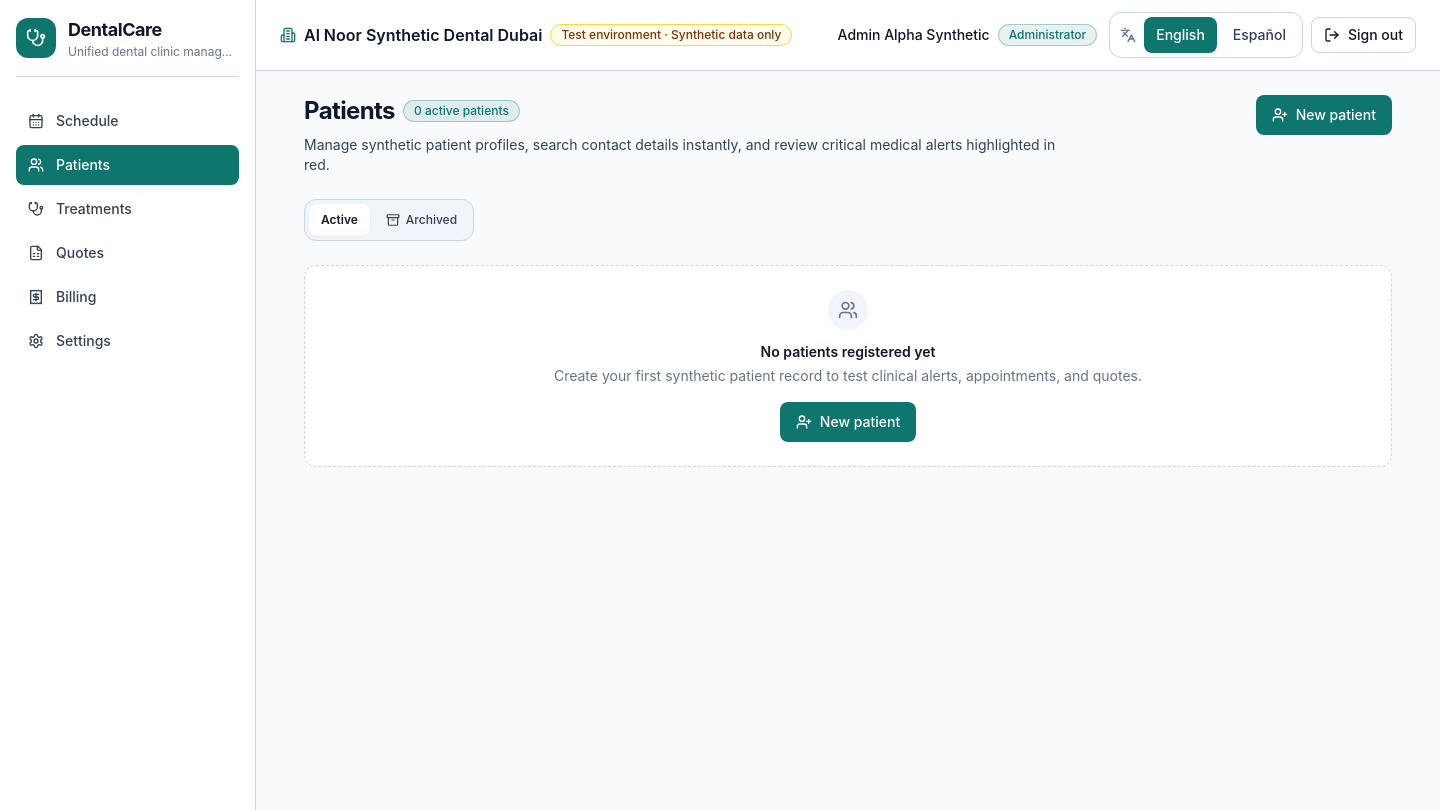
Test: T-05 Patients UI & clinical alert flow › 6. Allows admin to inspect Archived tab and restore a patient with explicit confirmation (without window.confirm), while hiding Archived tab from dentist (T-06b
Check: the text "No patients registered yet" is shown, box [761, 343, 935, 360]
Click the tab "Archived" at coordinates (421, 220), box [374, 204, 469, 236]
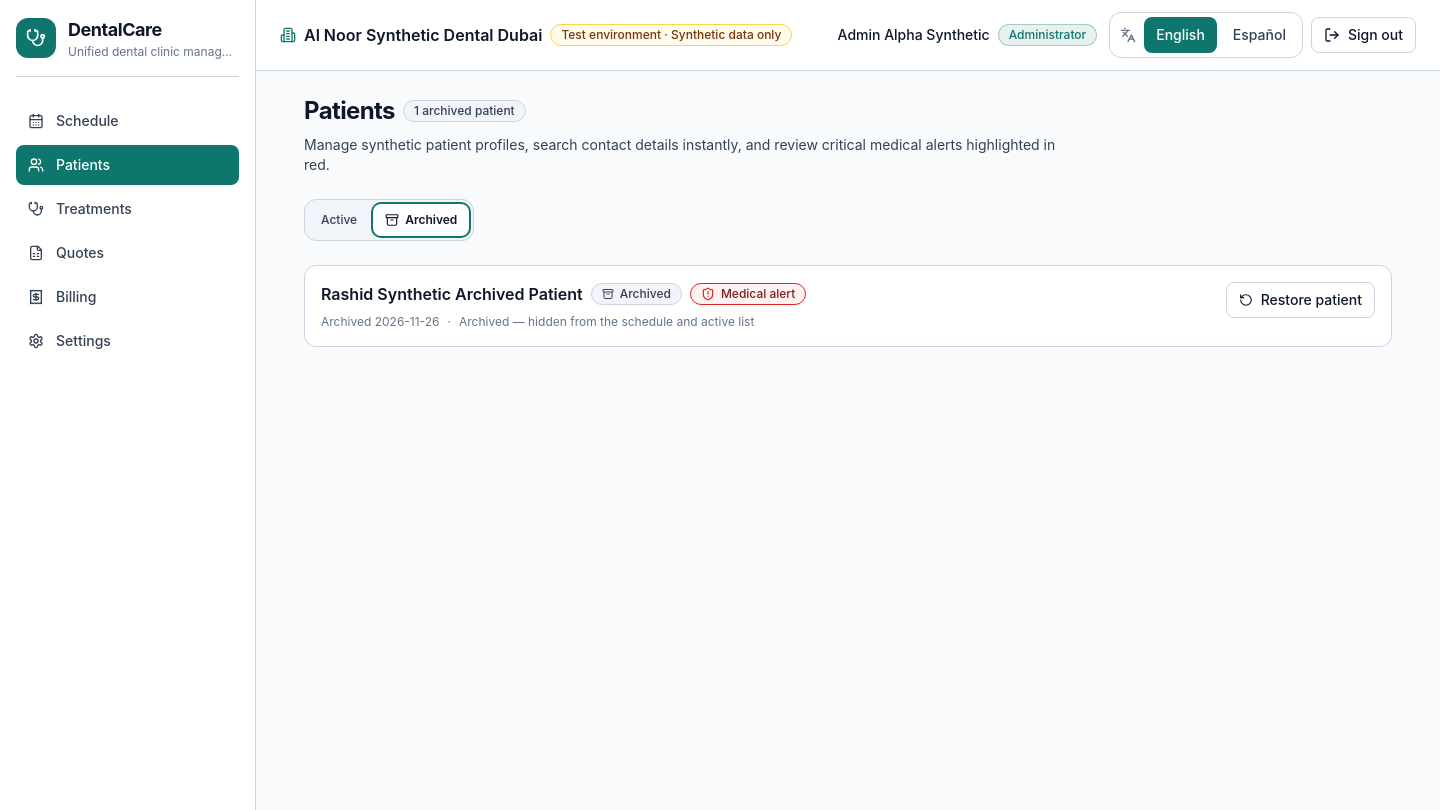
Check: the text "Rashid Synthetic Archived Patient" is shown, box [321, 282, 583, 306]
Check: the text "Archived — hidden from the schedule and active list" is shown, box [459, 314, 754, 330]
Check: the text "Medical alert" is shown, box [721, 286, 795, 302]
Clicking Restore opens inline confirmation without calling repository yet
Click the button "Restore patient" at coordinates (1300, 300), box [1226, 282, 1375, 318]
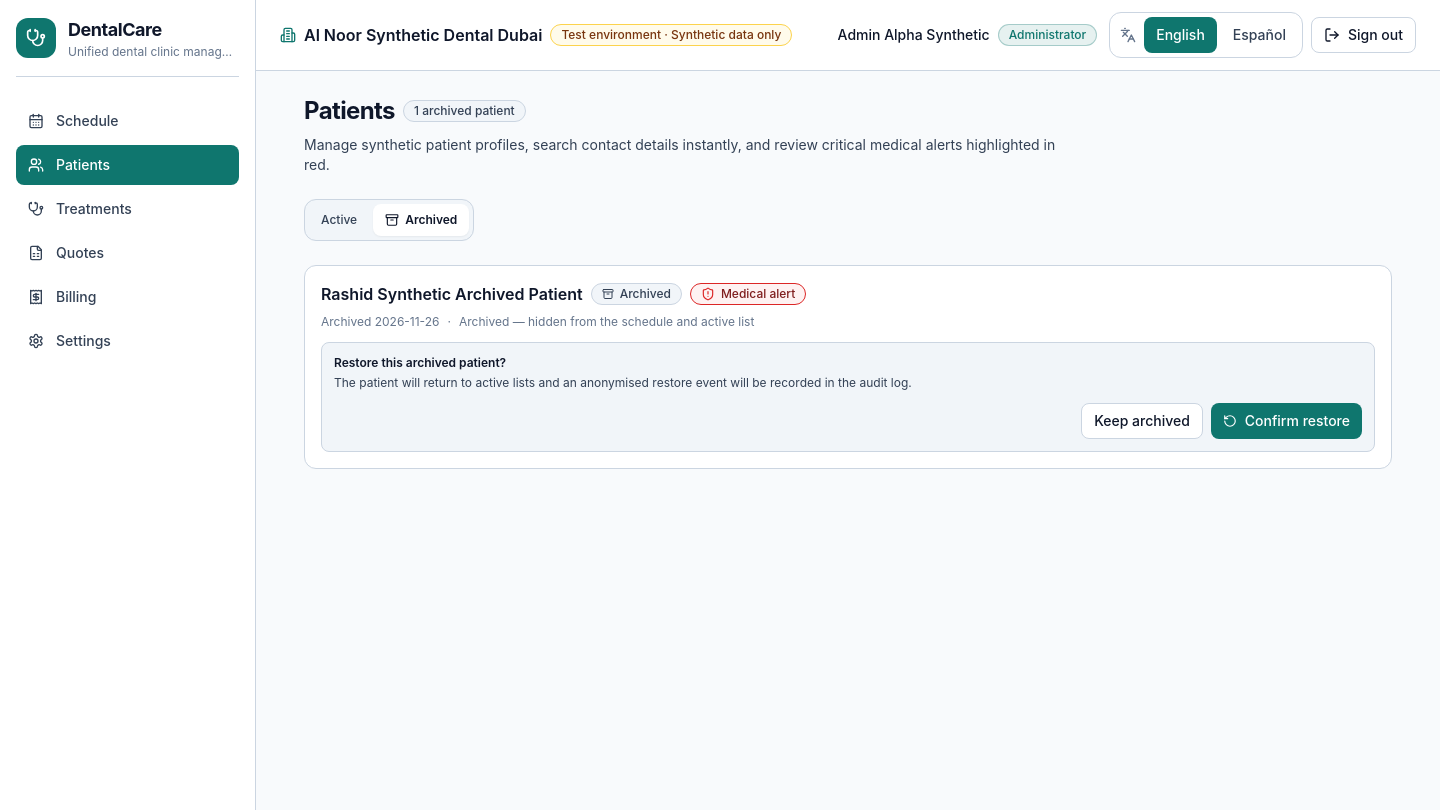
Click the button "Confirm restore" at coordinates (1286, 421), box [1211, 403, 1362, 439]
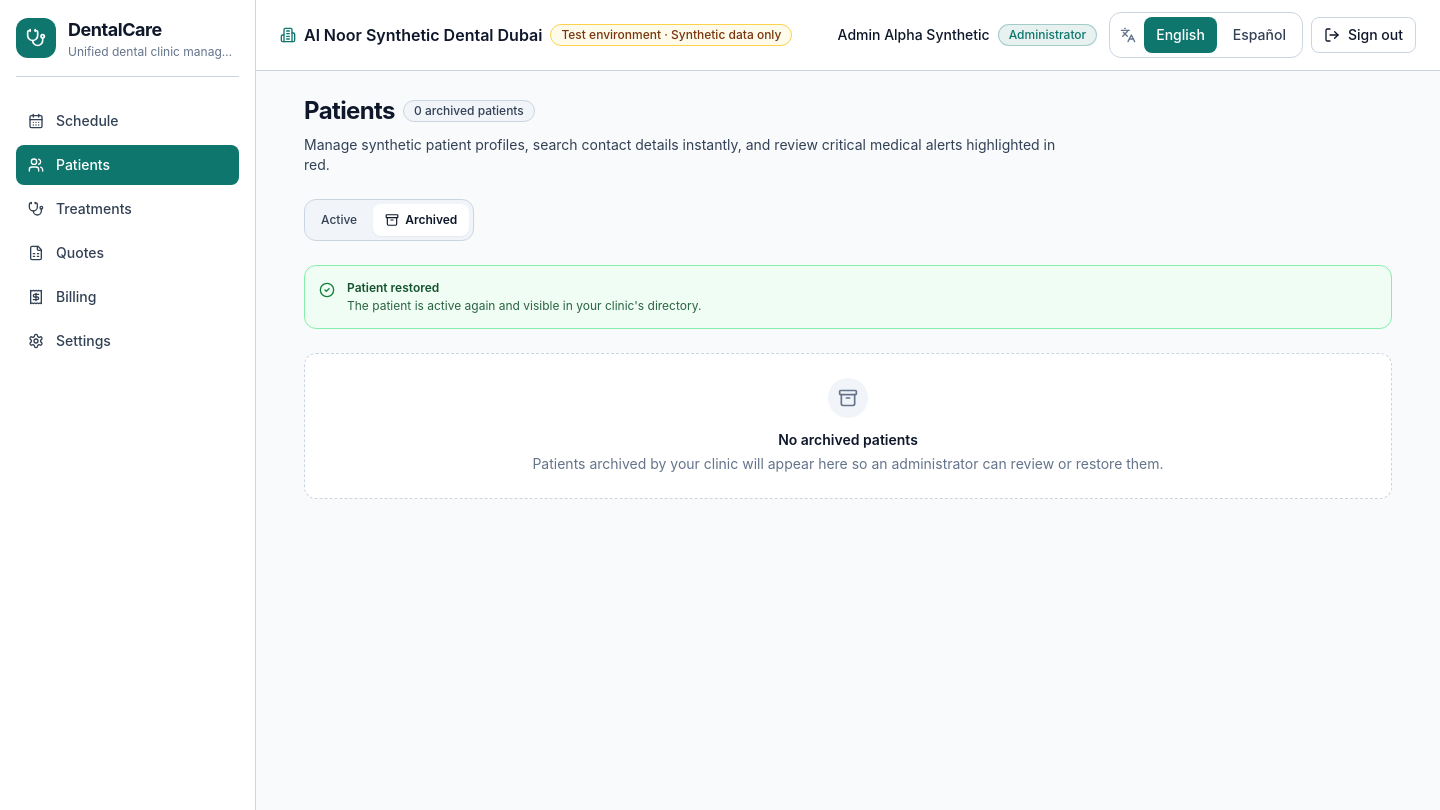
Check: the message shows "Patient restored", box [347, 280, 439, 295]
Click the tab "Active" at coordinates (339, 220), box [309, 204, 369, 236]
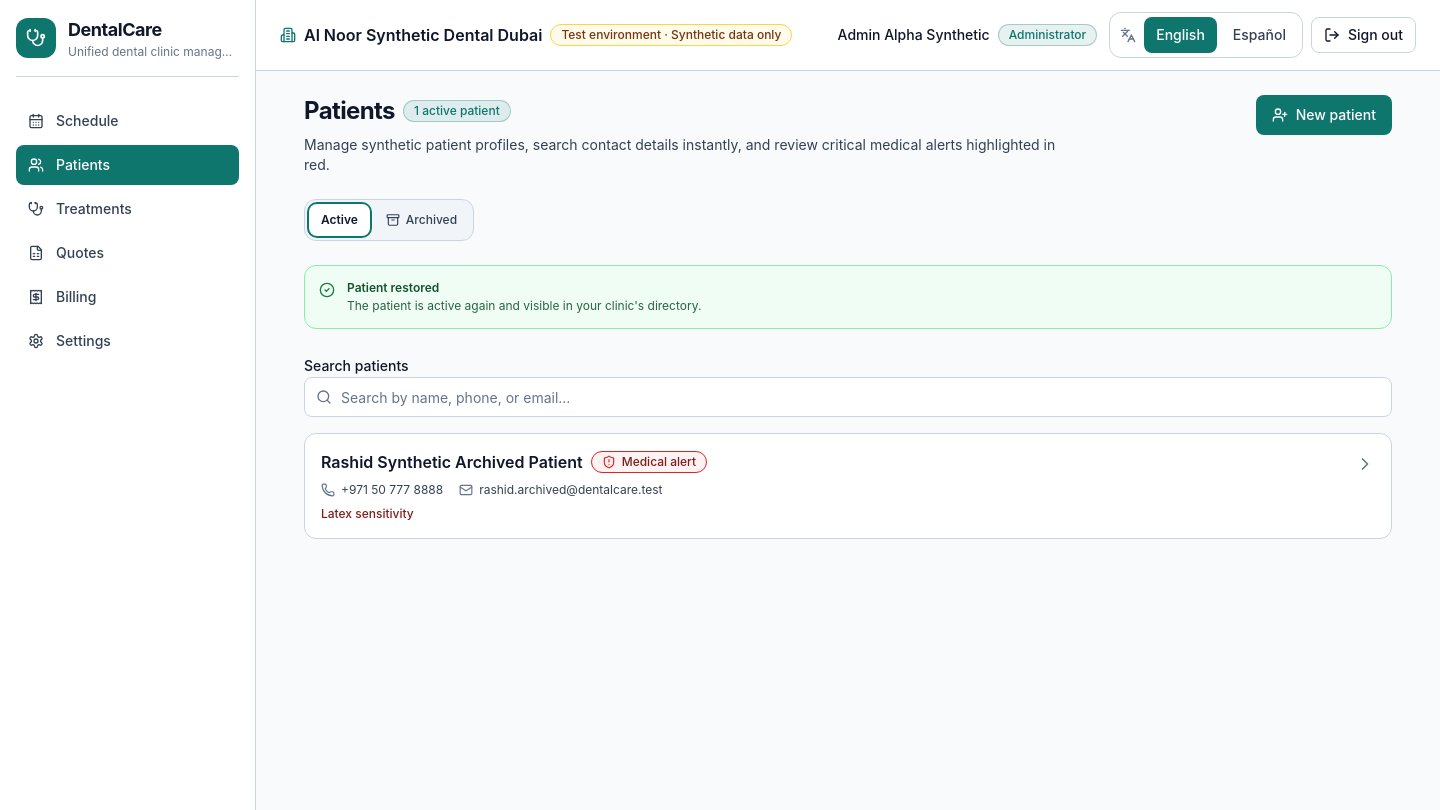
Check: the text "Rashid Synthetic Archived Patient" is shown, box [321, 450, 583, 474]
